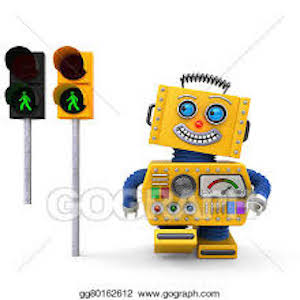green: (64, 89, 86, 119), (14, 90, 35, 116)
